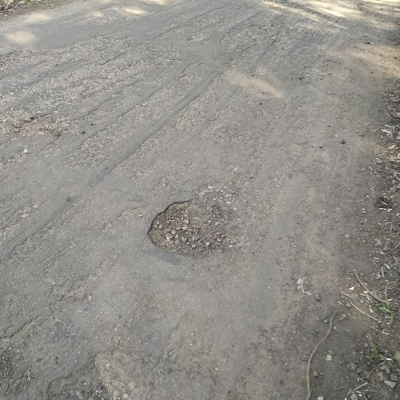pothole: (144, 197, 239, 258), (18, 112, 58, 137)
